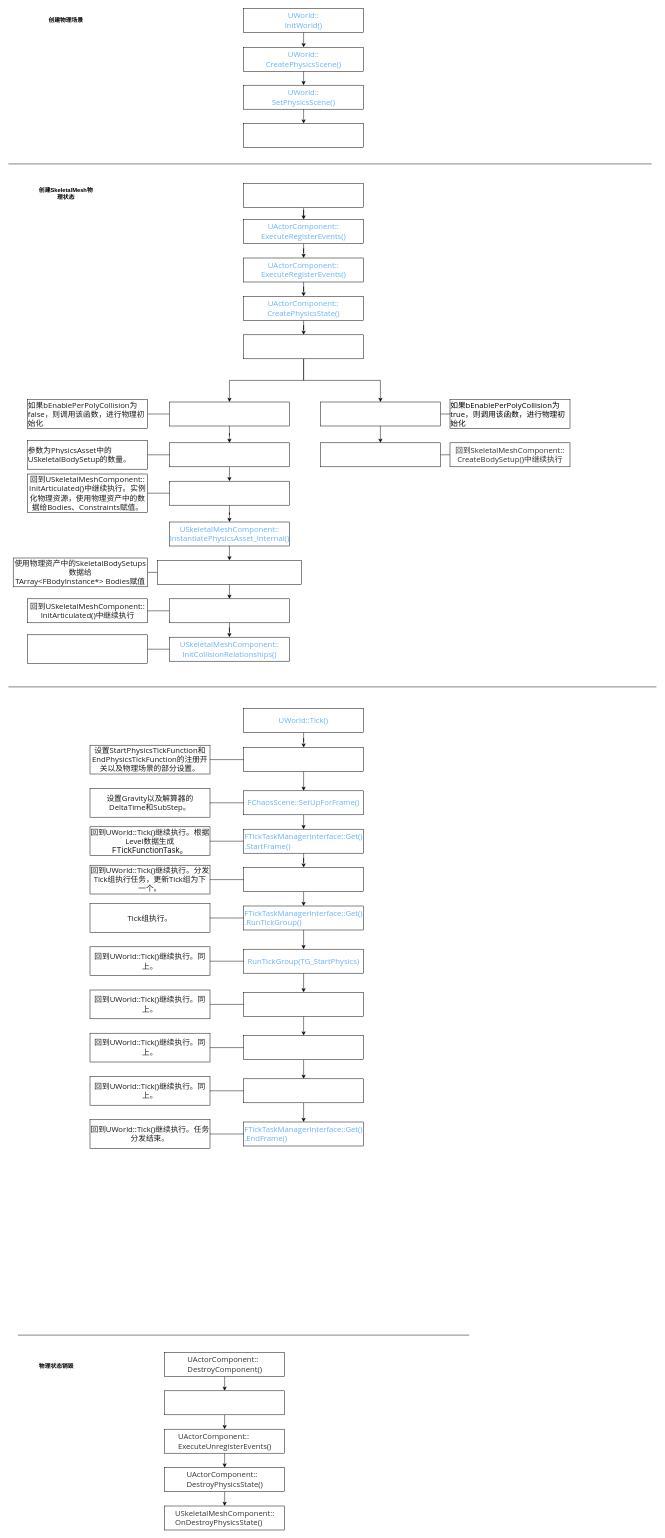
The diagram is 665 pixels wide and 1538 high, and some of its shapes have lost their labels. The centre of each missing label's shape, as x and y in pixels:
"FPhysicsInterface:: CreateAggregate()" goes at [229,454].
"FPhysScene_Chaos:: SetOwningWorld()" goes at [303,135].
"RunTickGroup(TG_DuringPhysics)" goes at [303,1004].
"RunTickGroup(TG_EndPhysics)" goes at [303,1047].
"RunTickGroup(TG_PostPhysics)" goes at [303,1090].
"RunTickGroup(TG_PrePhysics)" goes at [303,879].
"SkeletalMeshComponent:: CreateBodySetup()" goes at [380,414].
"UActorComponent:: RegisterComponentWithWorld()" goes at [303,195].
"UActorComponent:: UnregisterComponent()" goes at [224,1402].
"UBodySetup:: CreatePhysicsMeshes()" goes at [380,454].
"USkeletalMeshComponent:: InitArticulated()" goes at [229,414].
"USkeletalMeshComponent:: InstantiatePhysicsAsset ()" goes at [229,493].
"USkeletalMeshComponent:: InstantiatePhysicsAssetBodies_Internal ()" goes at [229,572].
"USkeletalMeshComponent:: OnCreatePhysicsState()" goes at [303,346].
"USkeletalMeshComponent:: SetRootBodyIndex()" goes at [229,610].
"UWorld:: SetupPhysicsTickFunctions()" goes at [303,759].
"回到USkeletalMeshComponent:: InitArticulated() 中继续执行。实体之间禁用碰撞初始化。" goes at [87,649].
